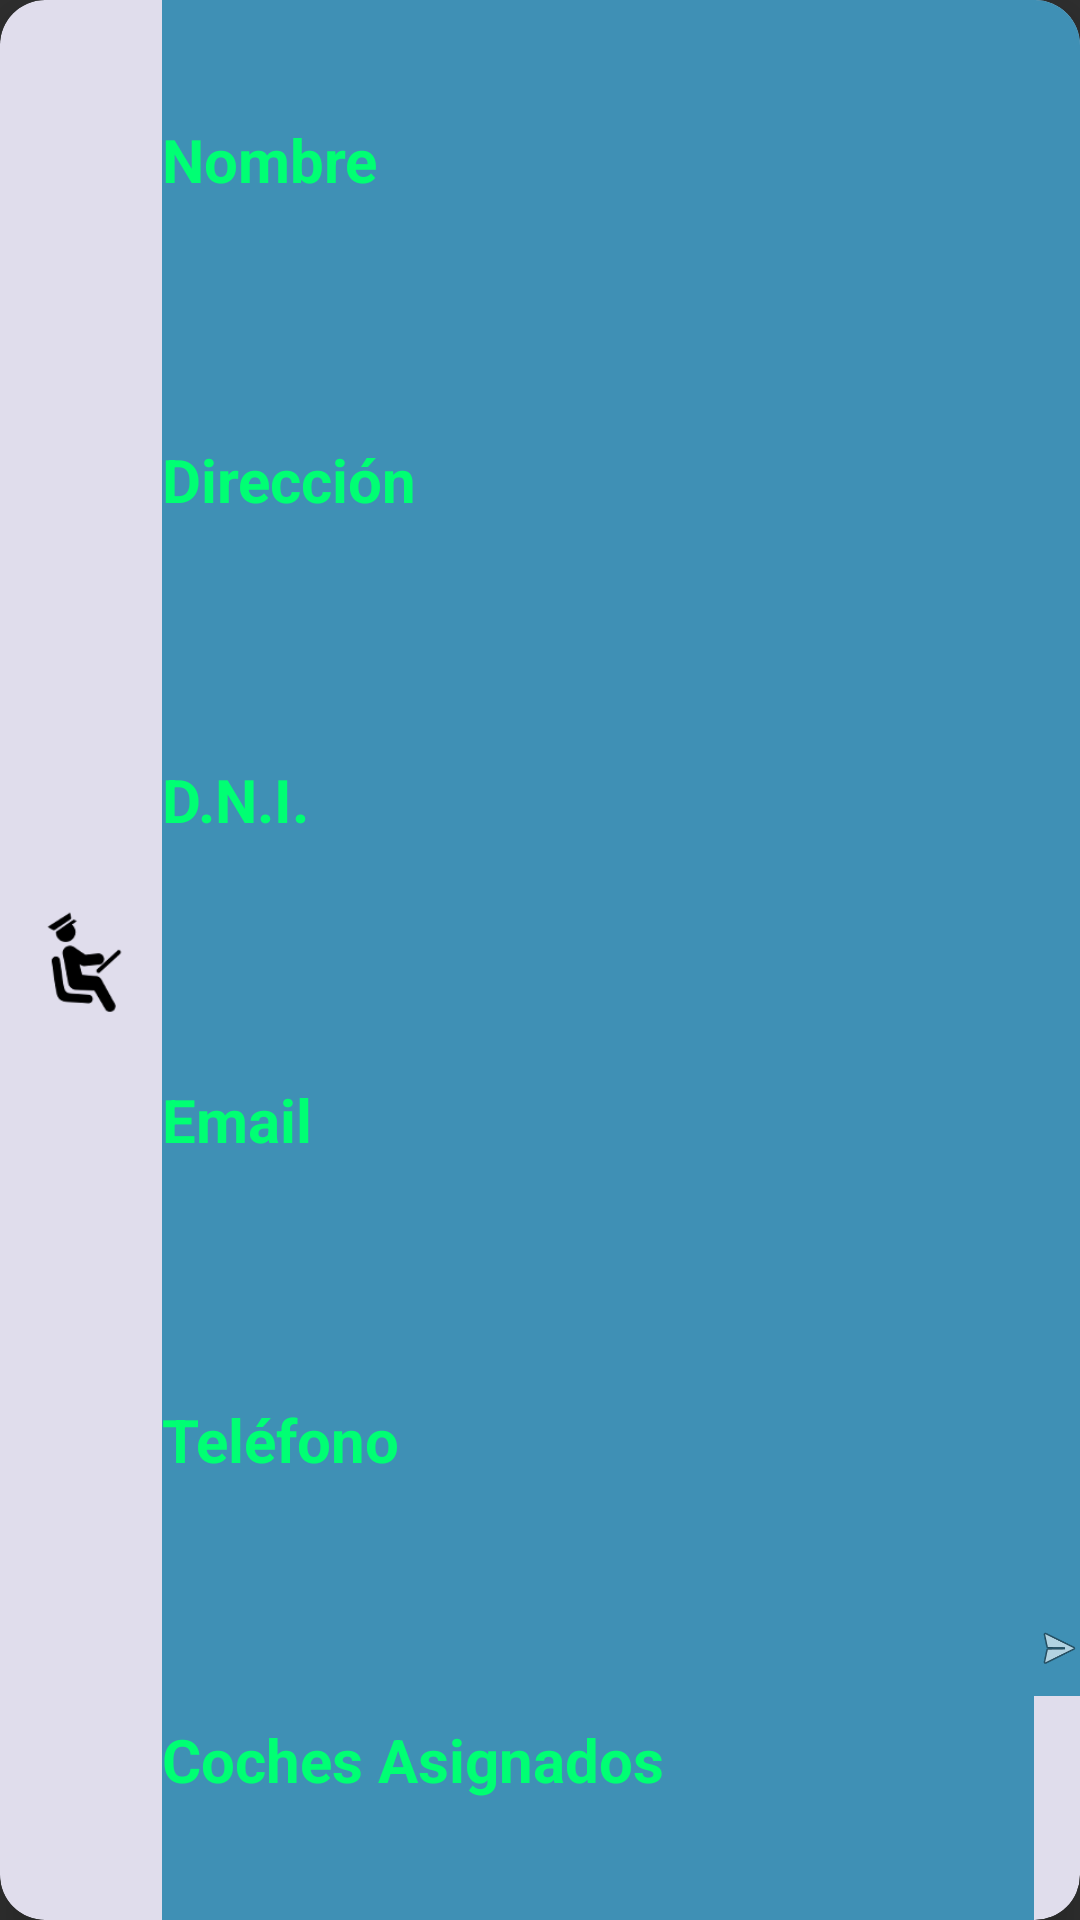

Named icons in this screenshot (1080 x 1920) and their centers, [x,y]:
send: [1059,1648]
